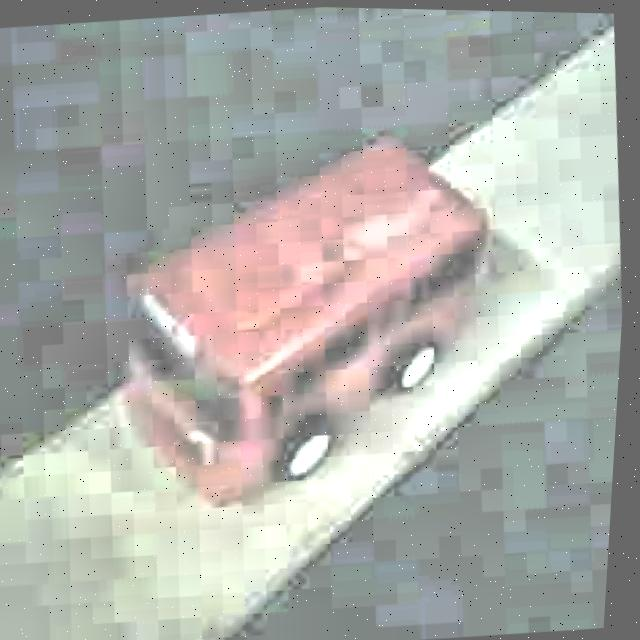bus: (97, 119, 516, 521)
